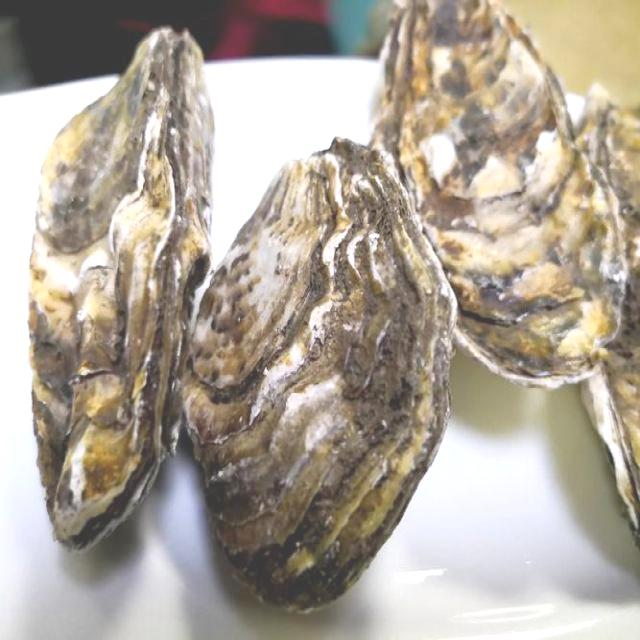Oyster-Closed: (174, 132, 460, 618), (372, 0, 632, 396), (24, 25, 216, 558)
